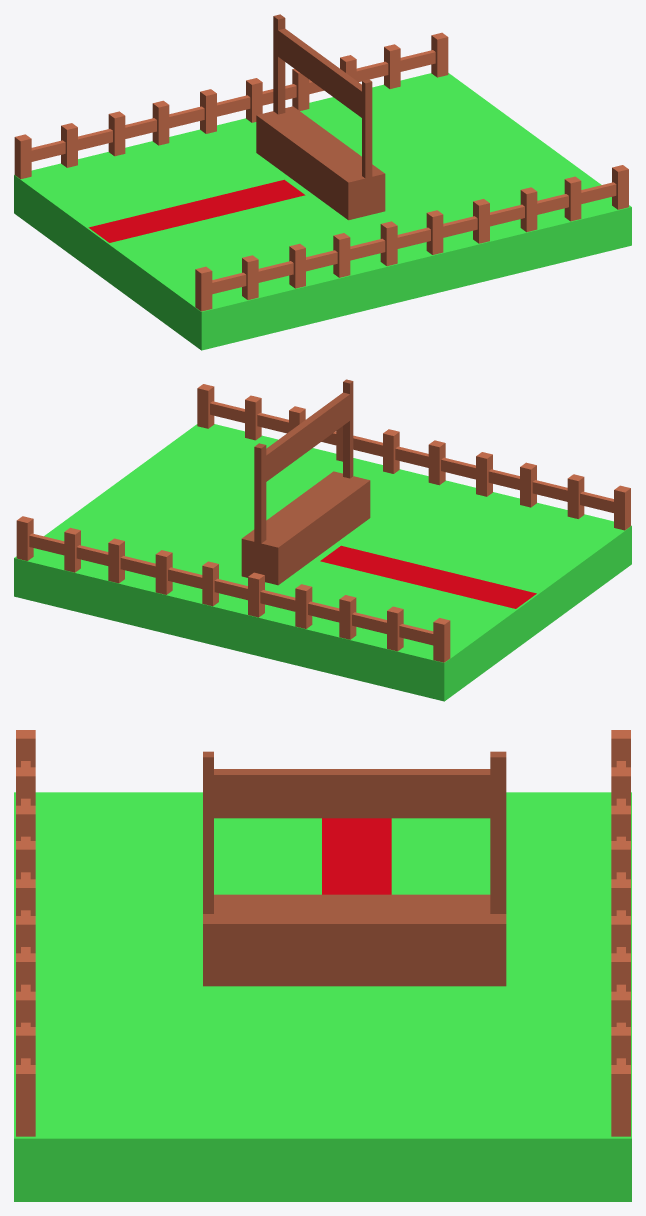
3 renders of one model, top to bottom at view 1: azimuth 30°, elevation 25°; view 2: azimuth 150°, elevation 25°; view 3: azimuth 270°, elevation 25°, orthographic. The views are drawn at different scales.
Parts seen in each view (by area): view 1: ground, foodBooth, CompletePost, CompletePost.001, carpet; view 2: ground, foodBooth, CompletePost.001, CompletePost, carpet; view 3: ground, foodBooth, CompletePost, CompletePost.001, carpet.
Part boxes in pixels (bbox=[...]): ground: bbox=[14, 73, 631, 350]; foodBooth: bbox=[256, 14, 385, 220]; CompletePost: bbox=[195, 165, 628, 311]; CompletePost.001: bbox=[14, 32, 448, 179]; carpet: bbox=[88, 179, 305, 242]; ground: bbox=[14, 424, 631, 701]; foodBooth: bbox=[241, 379, 370, 585]; CompletePost.001: bbox=[16, 516, 450, 662]; CompletePost: bbox=[197, 384, 630, 530]; carpet: bbox=[320, 545, 536, 608]; ground: bbox=[14, 792, 631, 1201]; foodBooth: bbox=[203, 751, 506, 986]; CompletePost: bbox=[16, 730, 35, 1136]; CompletePost.001: bbox=[611, 730, 630, 1136]; carpet: bbox=[322, 818, 391, 894].
Size of the model in its own units: 2342 by 890 by 1767.
